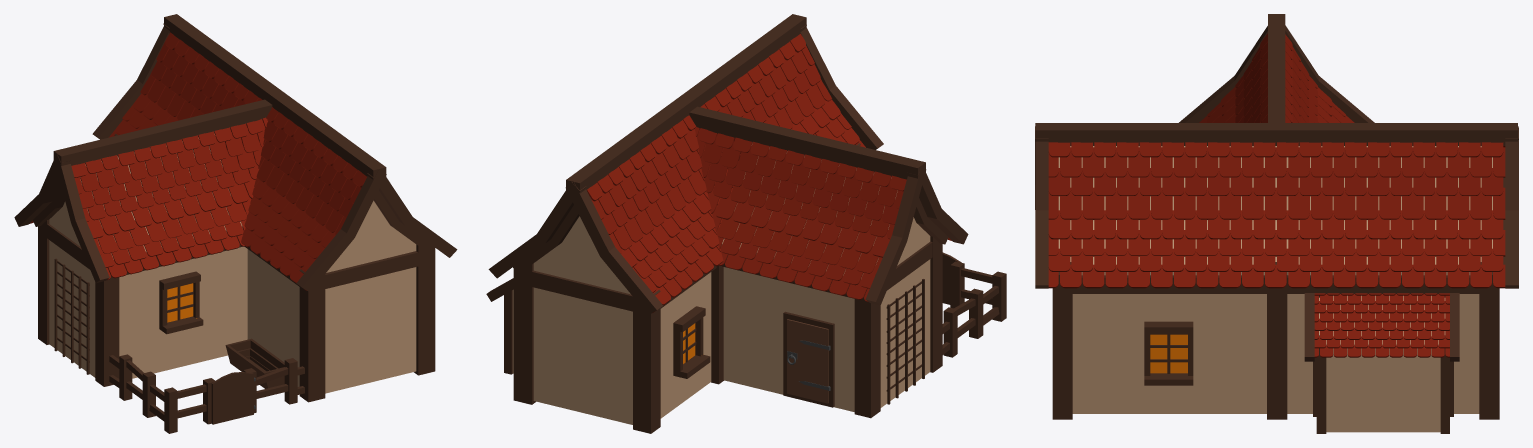
File: T-House.fbx
3 renders of one model, left to right at view 1: azimuth 30°, elevation 25°; view 2: azimuth 150°, elevation 25°; view 3: azimuth 270°, elevation 25°, orthographic. The views are drawn at different scales.
Visible parts, largest first — view 1: Cube, Cube.008, Xroof, YRoof, Cube.031, Cube.009, Vineladder, Cube.035, Cube.036, Window frame.003, Glass.003; view 2: Cube, Cube.008, Xroof, YRoof, Cube.031, Cube.020, Cube.009, Vineladder, Window frame.001, Cube.019, Cube.005, Cube.035; view 3: YRoof, Cube, Cube.008, Tiles.001, Cube.009, Xroof, Cube.005, Window frame.002, Glass.002.
Part boxes in pixels (box(x1,y1,x2,y2)): Cube: box(49, 134, 416, 393); Cube.008: box(14, 14, 457, 402); Xroof: box(29, 117, 267, 279); YRoof: box(109, 32, 366, 290); Cube.031: box(109, 354, 304, 433); Cube.009: box(47, 224, 418, 288); Vineladder: box(54, 258, 89, 374); Cube.035: box(211, 372, 253, 424); Cube.036: box(225, 338, 284, 388); Window frame.003: box(159, 271, 203, 334); Glass.003: box(167, 283, 196, 322); Cube: box(512, 144, 930, 424); Cube.008: box(488, 14, 968, 433); Xroof: box(694, 127, 951, 301); YRoof: box(587, 33, 865, 312); Cube.031: box(942, 261, 1006, 357); Cube.020: box(787, 319, 828, 403); Cube.009: box(532, 241, 932, 311); Vineladder: box(886, 279, 924, 404); Window frame.001: box(673, 306, 710, 378); Cube.019: box(783, 311, 834, 407); Cube.005: box(486, 278, 513, 374); Cube.035: box(942, 252, 961, 304); YRoof: box(1048, 142, 1505, 288); Cube: box(1058, 146, 1492, 432); Cube.008: box(1035, 14, 1518, 419); Tiles.001: box(1314, 293, 1449, 357); Cube.009: box(1072, 262, 1479, 419); Xroof: box(1199, 33, 1354, 122); Cube.005: box(1304, 293, 1459, 433); Window frame.002: box(1144, 321, 1193, 385); Glass.002: box(1150, 334, 1187, 373).
Bounding box in the file's own units: 551 × 364 × 619.
